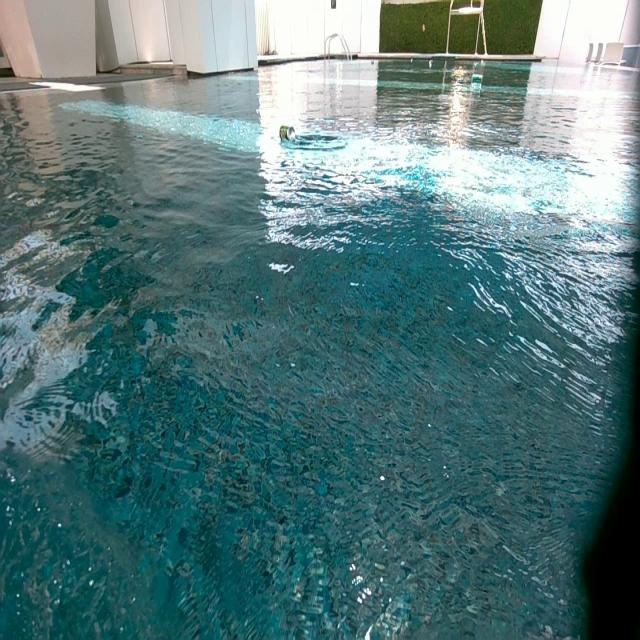Cans: (280, 126, 296, 142), (470, 73, 482, 83), (428, 61, 434, 68), (370, 60, 376, 66), (410, 58, 415, 64)
